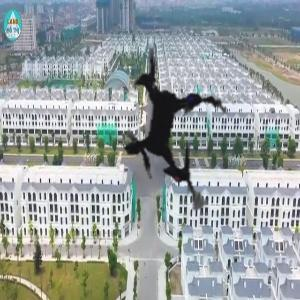drone: (48, 8, 293, 253)
